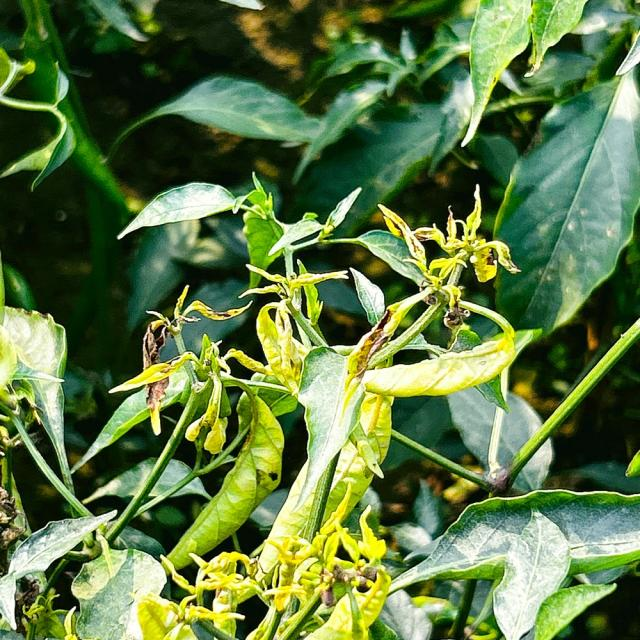Chilli_Leaf_Curl: (1, 2, 638, 637), (106, 171, 523, 598), (488, 32, 638, 337), (384, 487, 638, 638), (254, 344, 368, 577), (160, 380, 284, 576), (459, 0, 533, 148), (491, 508, 571, 638), (361, 332, 517, 398), (114, 180, 246, 239)
